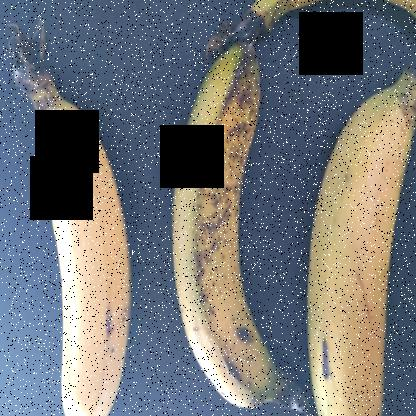freshripe: (0, 92, 147, 415), (310, 79, 415, 415)
ripe: (147, 14, 285, 407)
